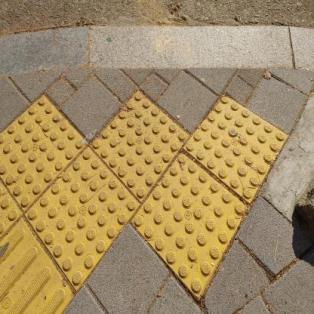Podoctatil: (0, 85, 294, 313)
